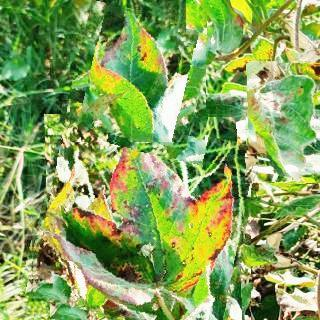blight: (28, 109, 251, 320), (70, 6, 207, 142), (244, 61, 320, 183)
